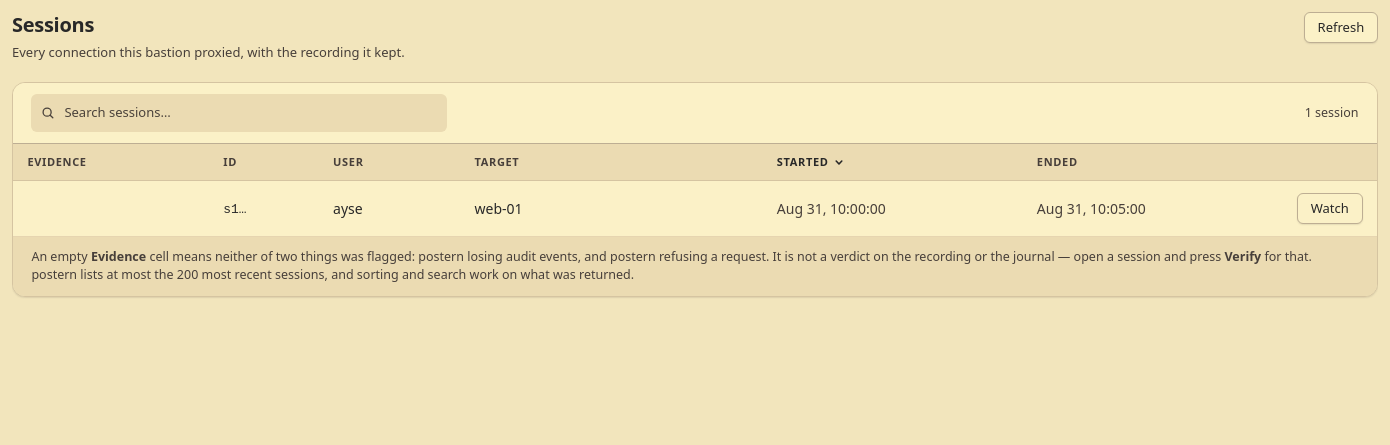
Test case: SFTP dosya olayları › olaylar okunamadıysa bunu boş liste gibi göstermiyor
The width and height of the screenshot is (1390, 445).
Click the button "Watch" at point(1330, 208), box [1297, 193, 1363, 224]
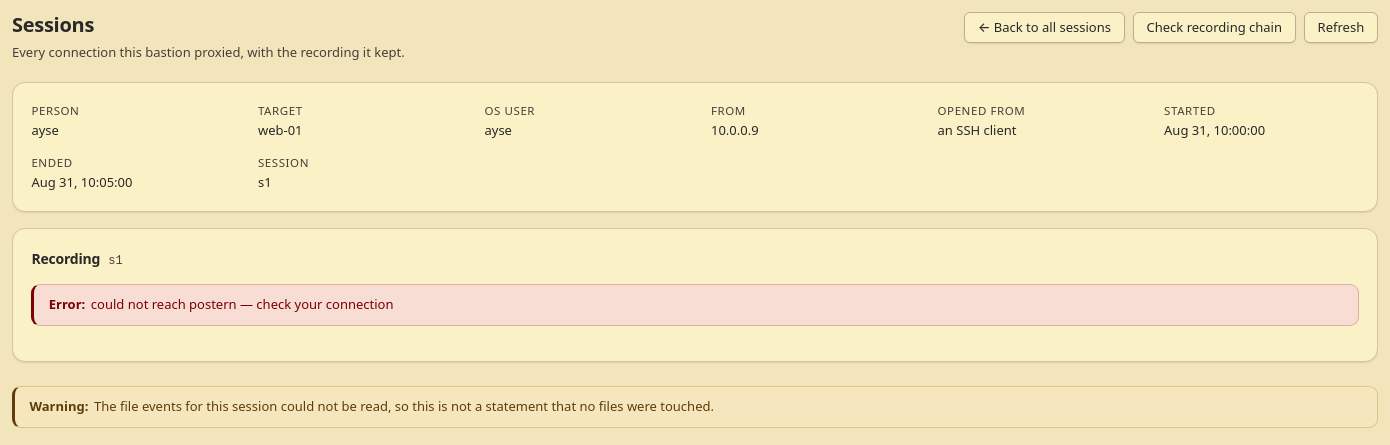
Expected: the text "not a statement that no files were touched" is shown, [94, 397, 714, 415]
